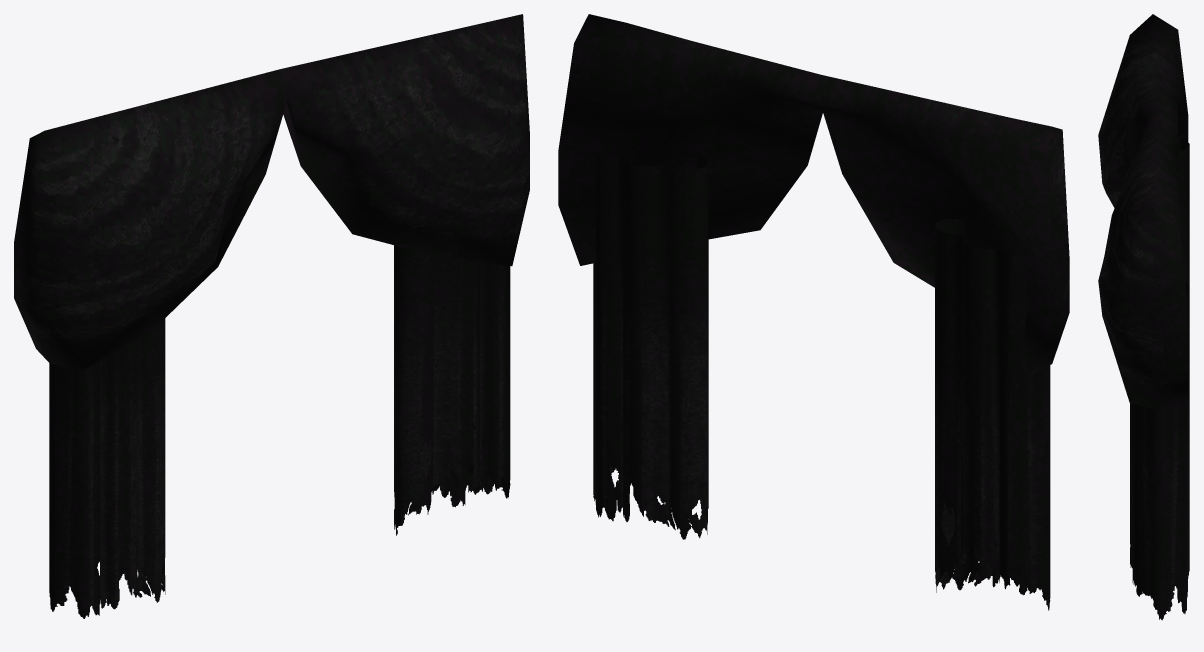
The model's file is curtain10_long_broken.dae.
3 renders of one model, left to right at view 1: azimuth 30°, elevation 25°; view 2: azimuth 150°, elevation 25°; view 3: azimuth 270°, elevation 25°, orthographic. The views are drawn at different scales.
Visible parts, largest first — view 1: polySurface191, polySurface192; view 2: polySurface191, polySurface192; view 3: polySurface191.
Part boxes in pixels (x1,y1,x2,y2): polySurface191: (14,14,529,618); polySurface192: (68,419,494,594); polySurface191: (558,14,1069,610); polySurface192: (610,466,1030,593); polySurface191: (1098,14,1189,620).
Size of what is drawn, in the model's own units: 2.5 by 2.42 by 0.4673.
